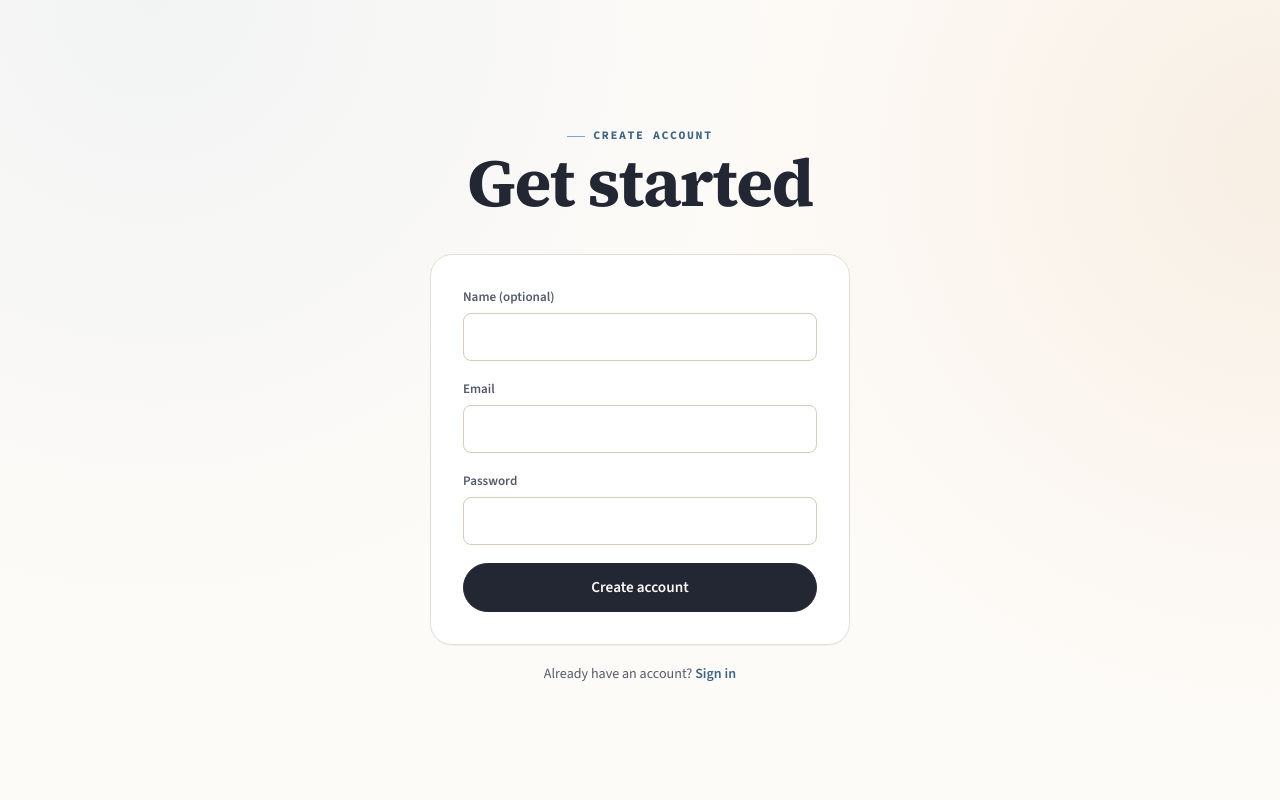
Test: Register › shows the backend's error message on a duplicate email
In the field labelled "Email": (640, 429) [463,405,817,453], type "alice@example.com"
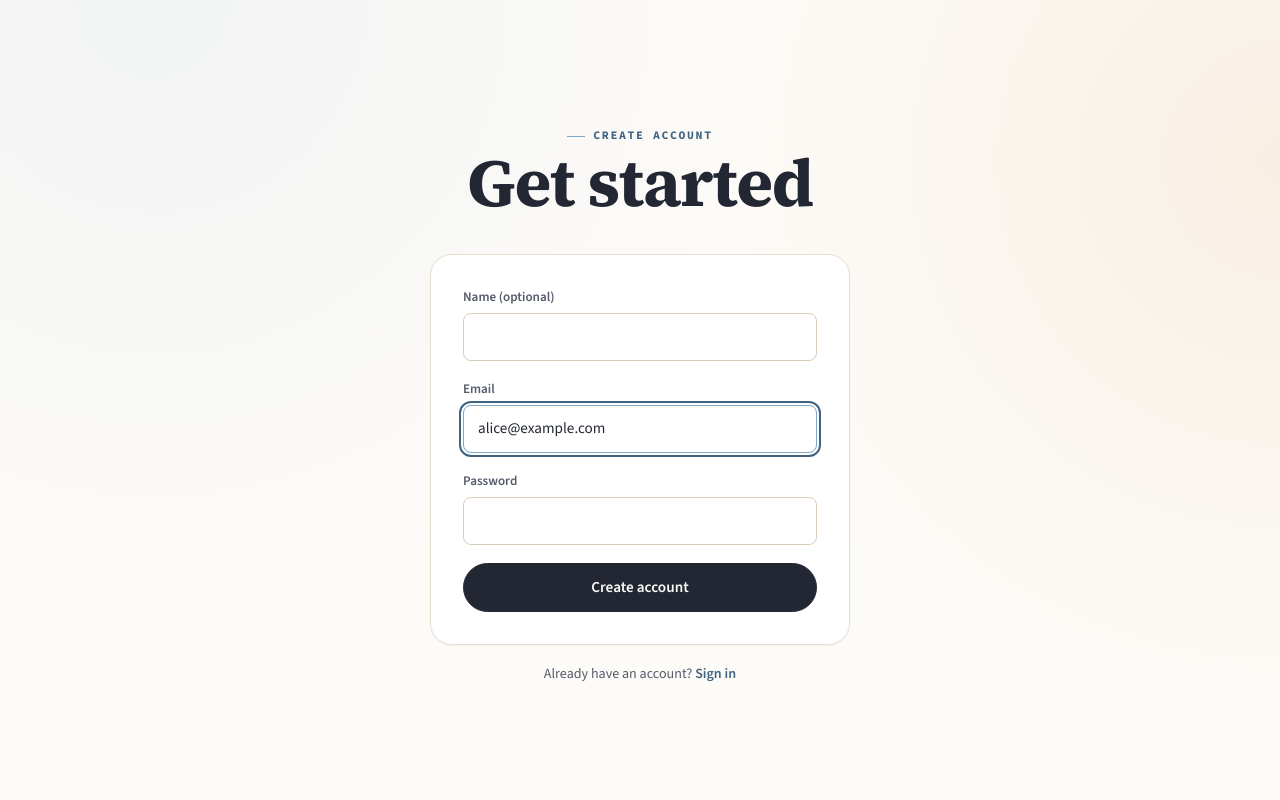
In the password field labelled "Password": (640, 521) [463,497,817,545], type "correct-horse-battery"
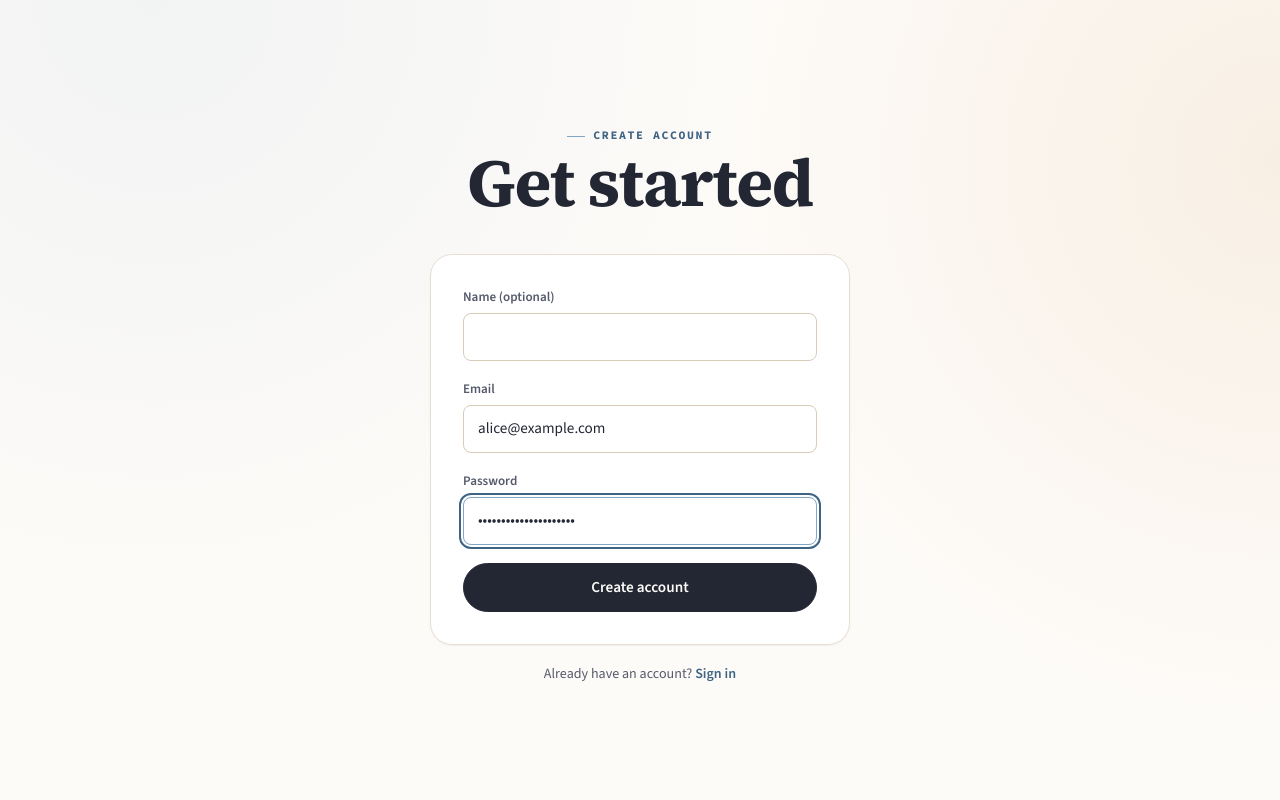
Click the button "Create account": (640, 588) [463,563,817,612]
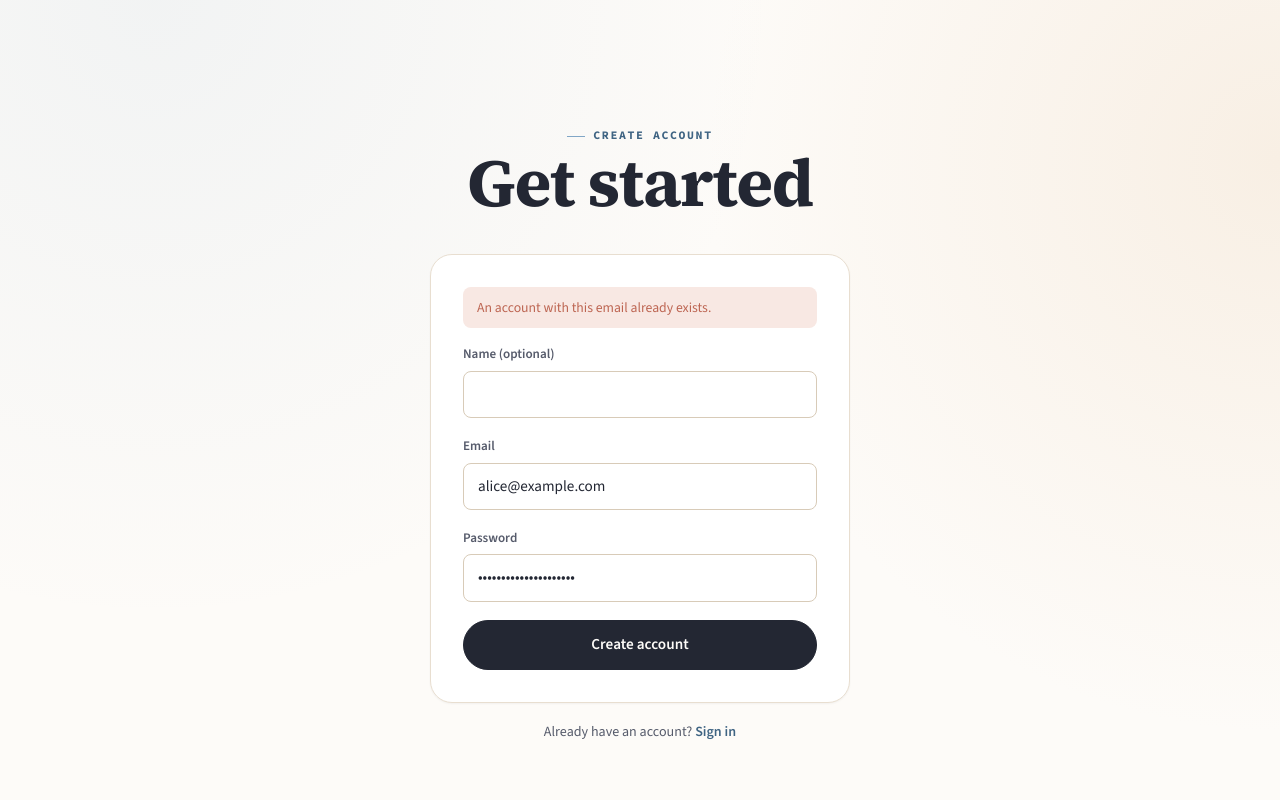
Now the text "An account with this email already exists." is shown, box [463,287,817,328]
